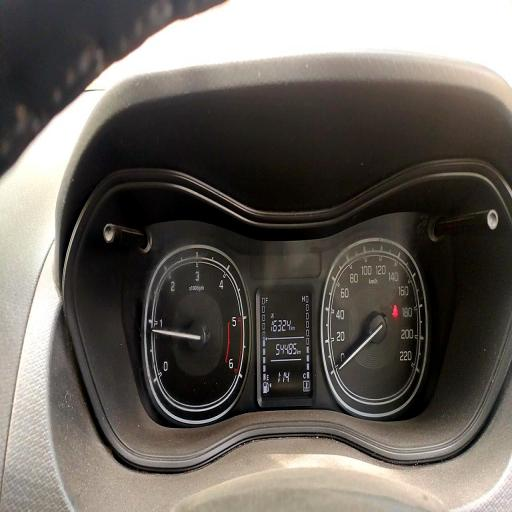tachometer: (144, 244, 250, 424)
